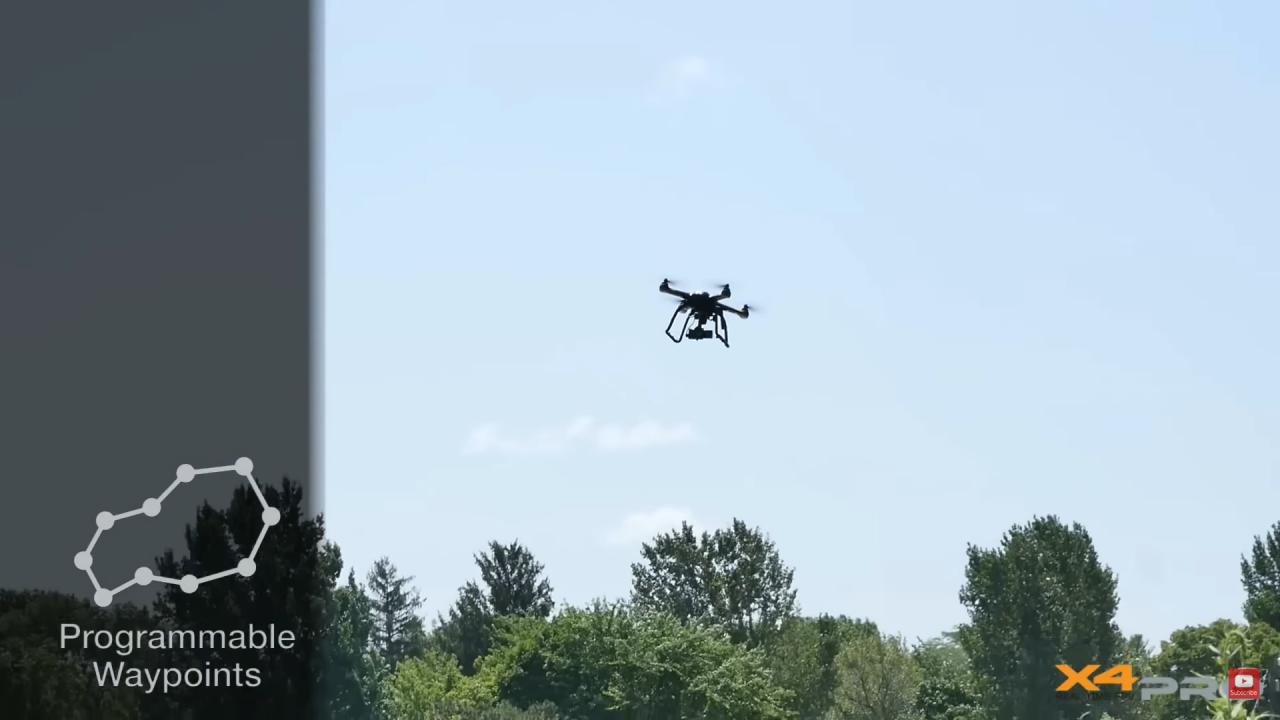Drone: (638, 267, 772, 357)
